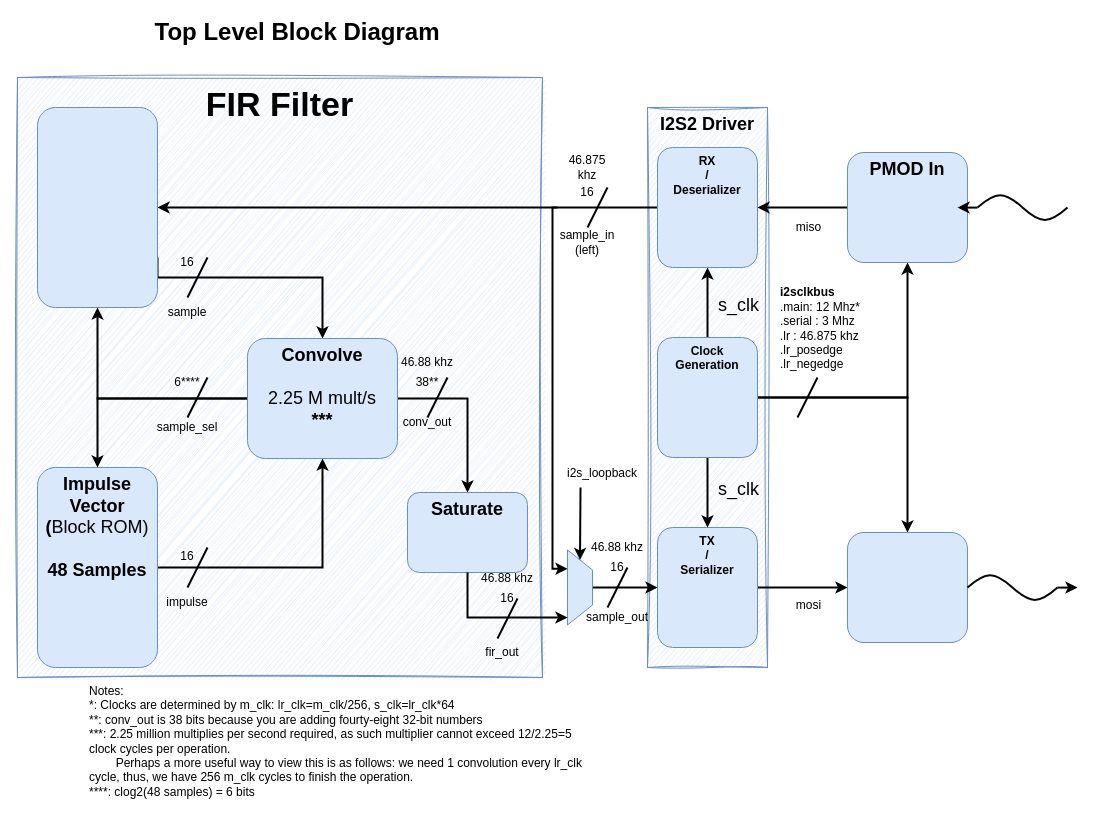
This 1104x824 diagram has some shape labels left out. The centre of each missing label's shape, as x and y in pixels:
"Audio Buffer (ShiftReg) 48 Samples" goes at pixel 97 207.
"Line In" goes at pixel 1022 207.
"Line Out" goes at pixel 1012 587.
"PMOD Out" goes at pixel 907 587.
